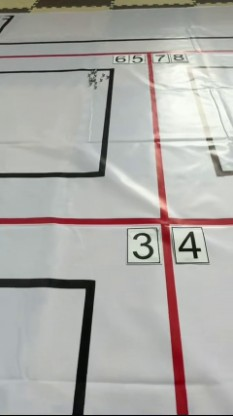ironball: (92, 77, 101, 86), (87, 68, 94, 77), (92, 83, 98, 89), (99, 71, 105, 77), (102, 74, 108, 80), (88, 79, 92, 86), (90, 69, 95, 74), (97, 78, 100, 82)
